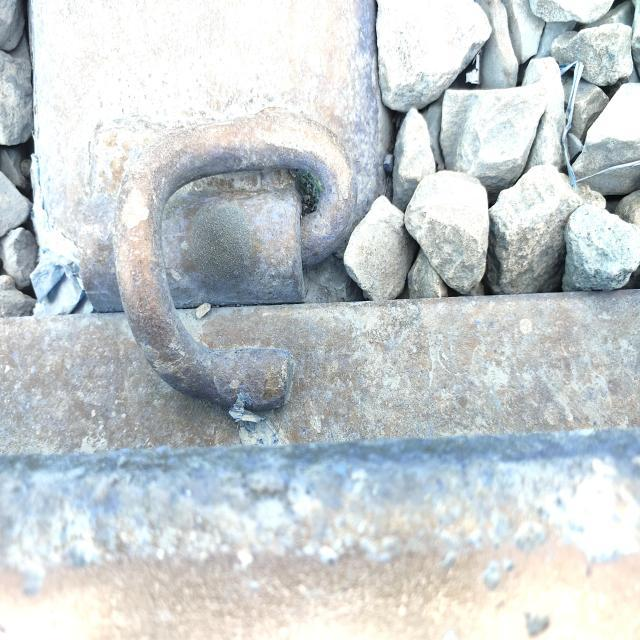Good Fasteners: (30, 0, 389, 409)
